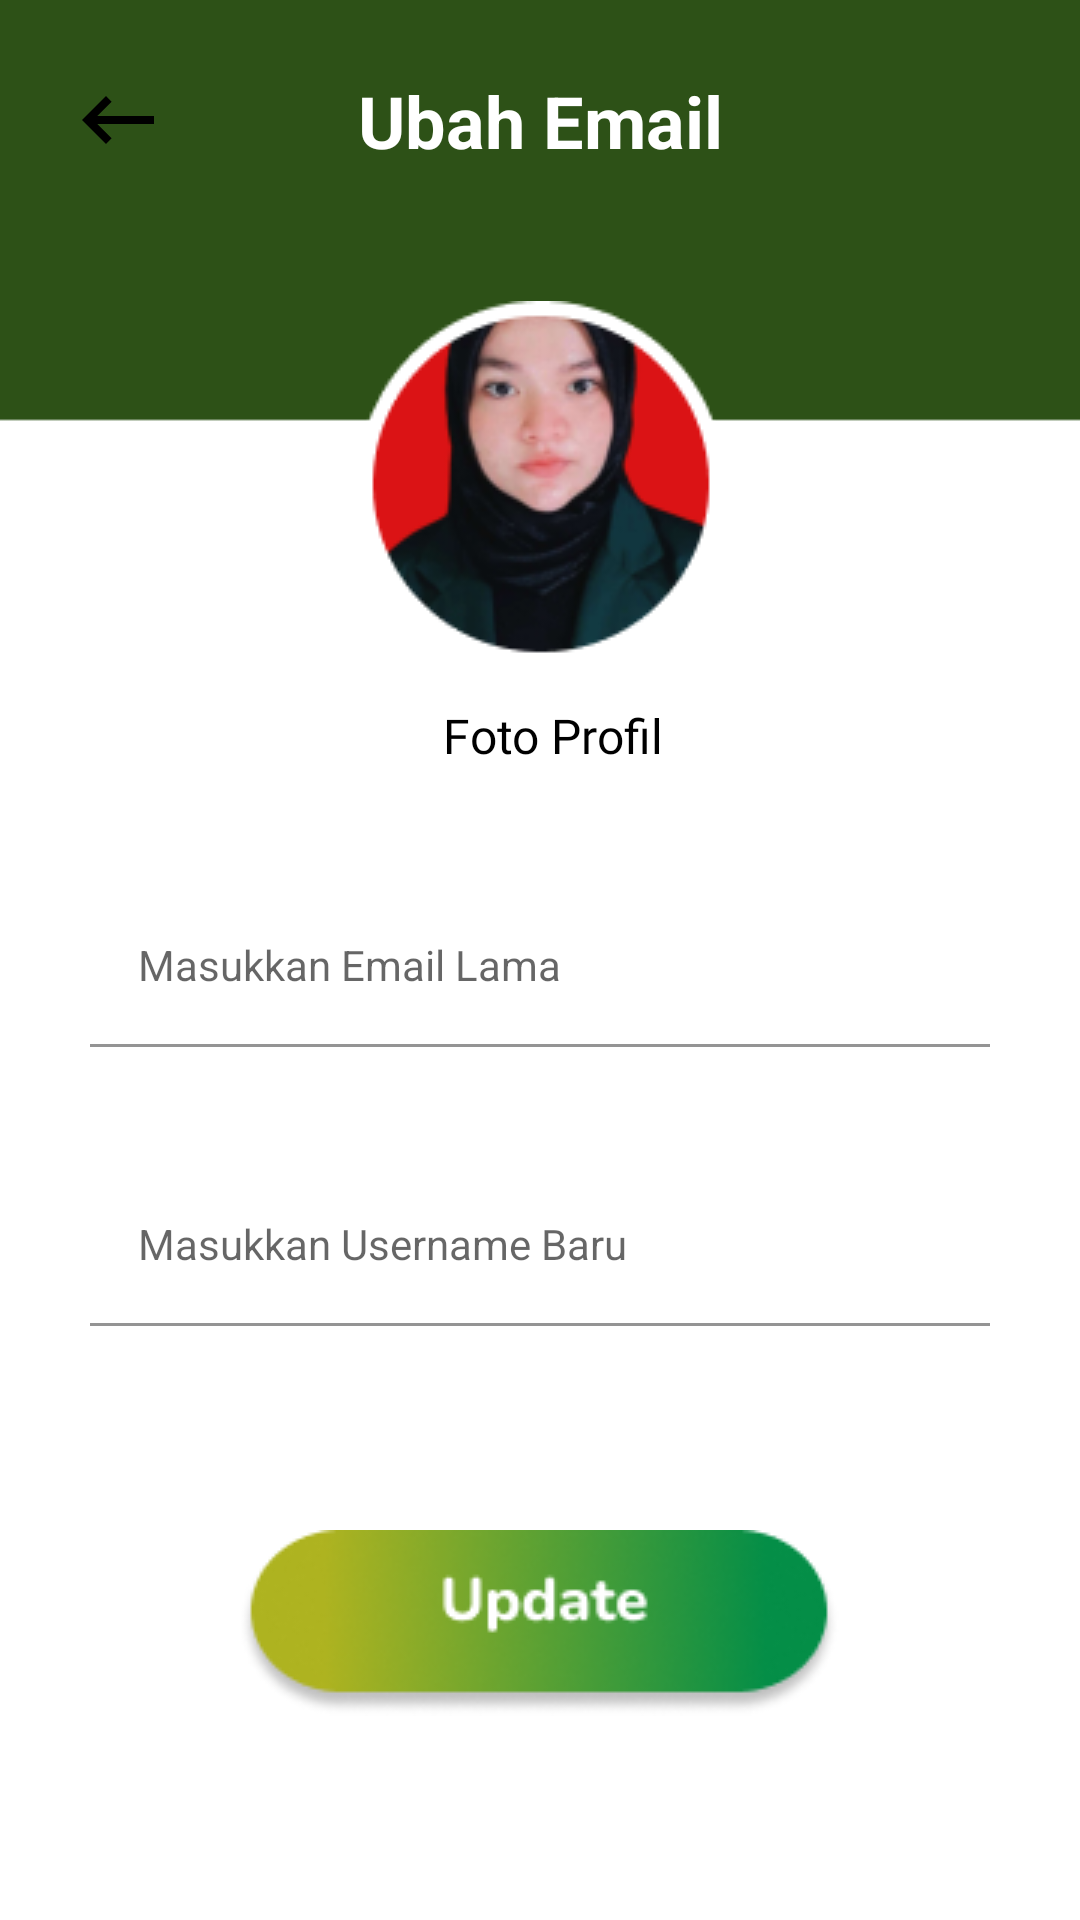

Icon bounding boxes for this 1080px x 1920px phone screenshot, format box=[x1, y1, x2, y2]:
back: box=[82, 96, 154, 144]
